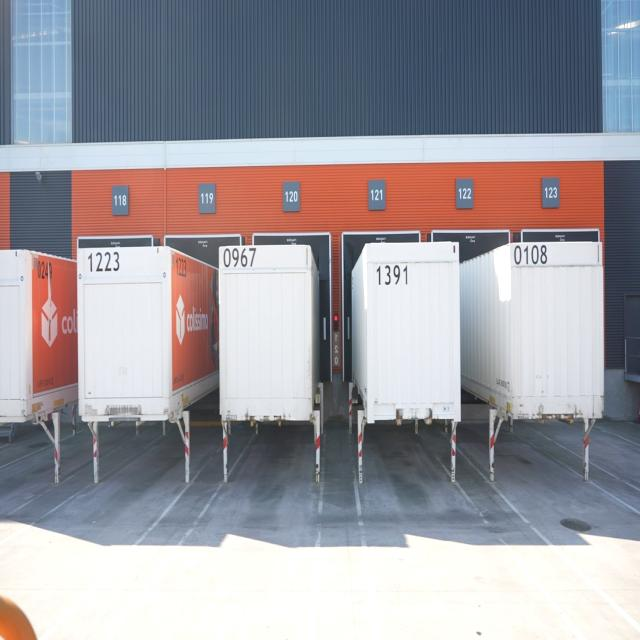Code: (374, 260, 417, 298), (86, 246, 125, 280), (219, 246, 261, 269), (514, 242, 550, 267), (174, 252, 190, 282)
